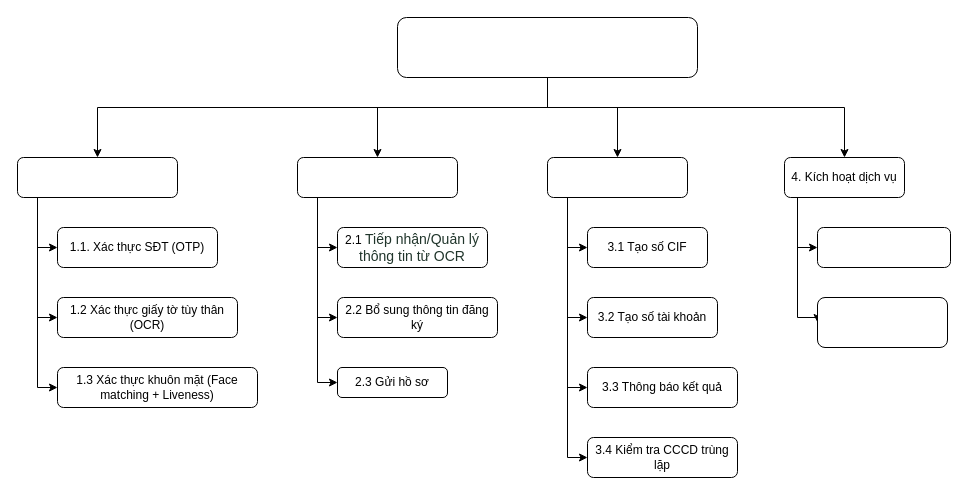
The diagram is 968 pixels wide and 495 high, and some of its shapes have lost their labels. The shapes that lost their labels are listed below. From the top down, each one's box as (x1, y1, x2, y2) in pixels, then its label:
(396, 16, 698, 78): Hệ thống mở tài khoản online xác thực eKYC
(16, 156, 178, 198): 1. Xác thực người dùng
(296, 156, 458, 198): 2. Quản lý hồ sơ đăng ký
(546, 156, 688, 198): 3. Tạo tài khoản
(816, 226, 950, 268): 4.1 Thiết lập tài khoản eBanking
(816, 296, 948, 348): 4.2 Thông báo kích hoạt thành công
